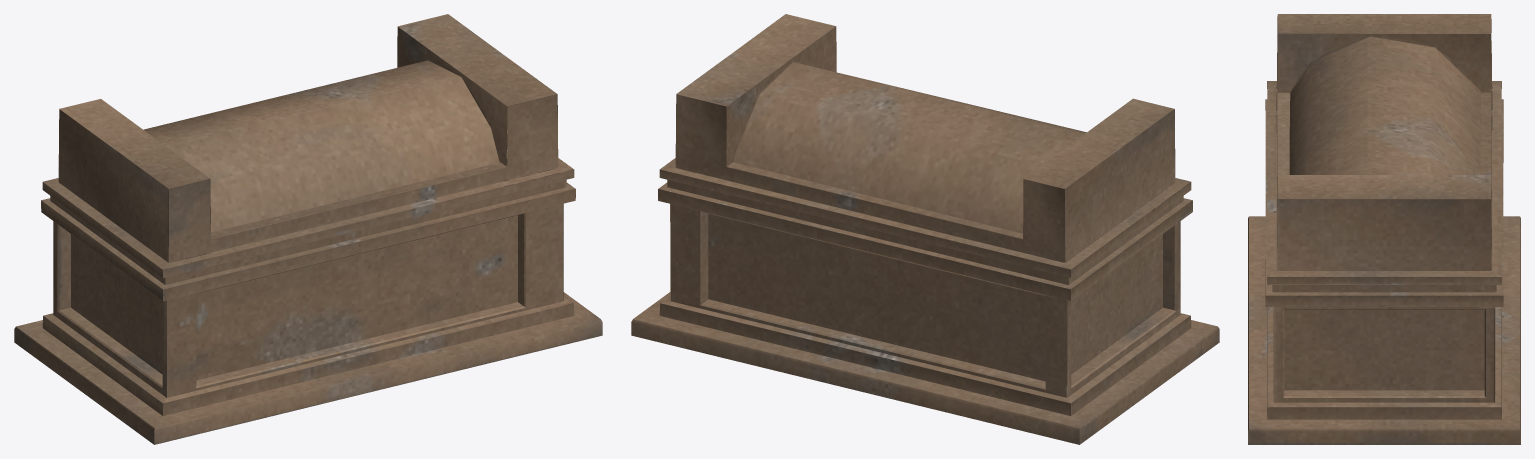
File: TumbaSala3.fbx
The picture shows the model from 3 angles, left to right: view 1: azimuth 30°, elevation 25°; view 2: azimuth 150°, elevation 25°; view 3: azimuth 270°, elevation 25°; orthographic projection. The views are drawn at different scales.
Visible parts, largest first — view 1: pCube2; view 2: pCube2; view 3: pCube2.
Part boxes in pixels (x1,y1,x2,y2): pCube2: (14, 14, 602, 444); pCube2: (631, 14, 1219, 444); pCube2: (1248, 14, 1520, 444).
Size of the model in its own units: 563 by 285 by 304.
